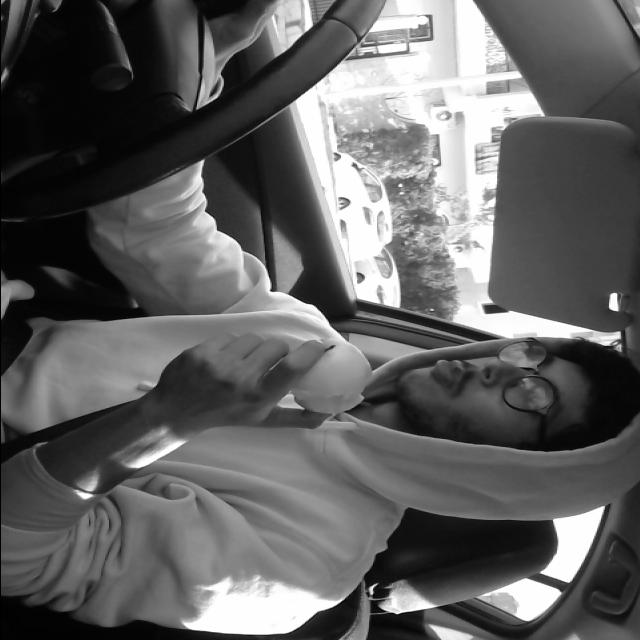eating: (286, 340, 368, 416)
